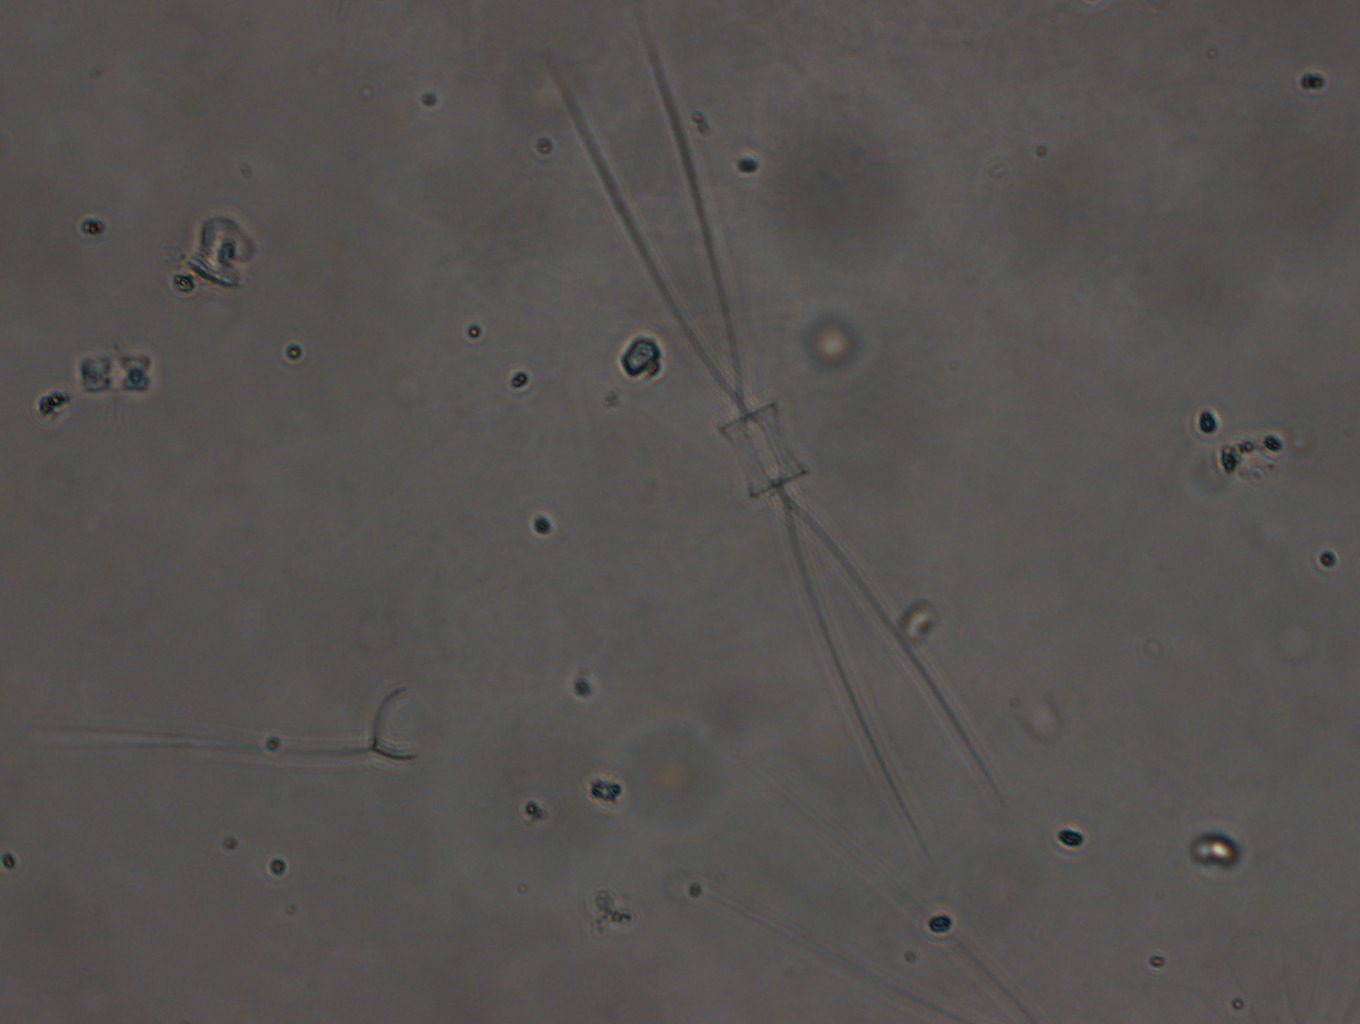chaetoceros: (564, 10, 994, 843)
